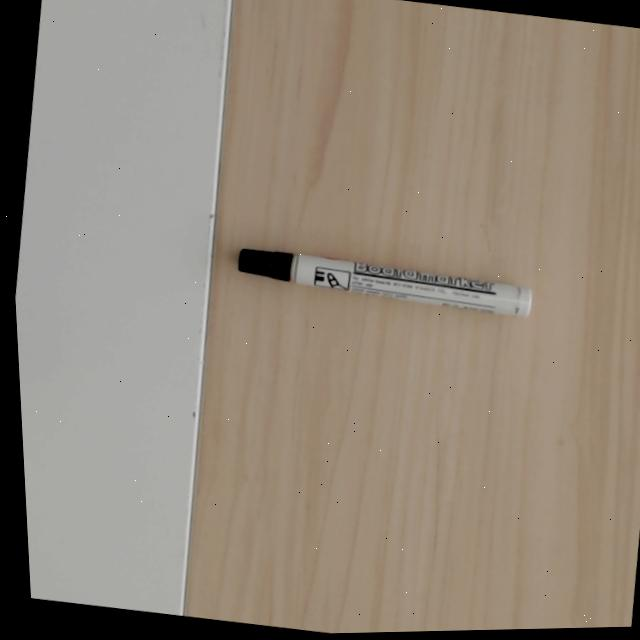Marker-Pen: (236, 243, 535, 318)
